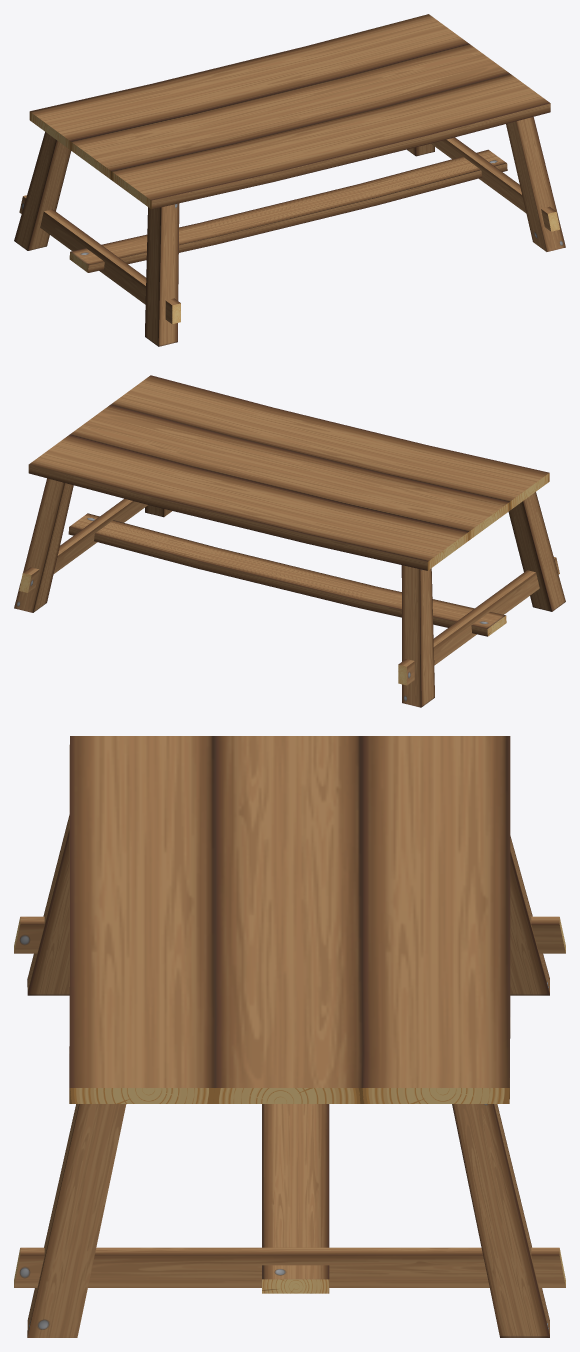
The model's file is Table_01.FBX.
The picture shows the model from 3 angles, top to bottom: view 1: azimuth 30°, elevation 25°; view 2: azimuth 150°, elevation 25°; view 3: azimuth 270°, elevation 25°; orthographic projection. The views are drawn at different scales.
Visible parts, largest first — view 1: Table_01; view 2: Table_01; view 3: Table_01.
Boxes of the visible parts, bbox=[...] form: Table_01: bbox=[14, 14, 565, 346]; Table_01: bbox=[14, 375, 565, 707]; Table_01: bbox=[14, 736, 565, 1337].
Size of the model in its own units: 2.49 by 0.7751 by 1.57.
